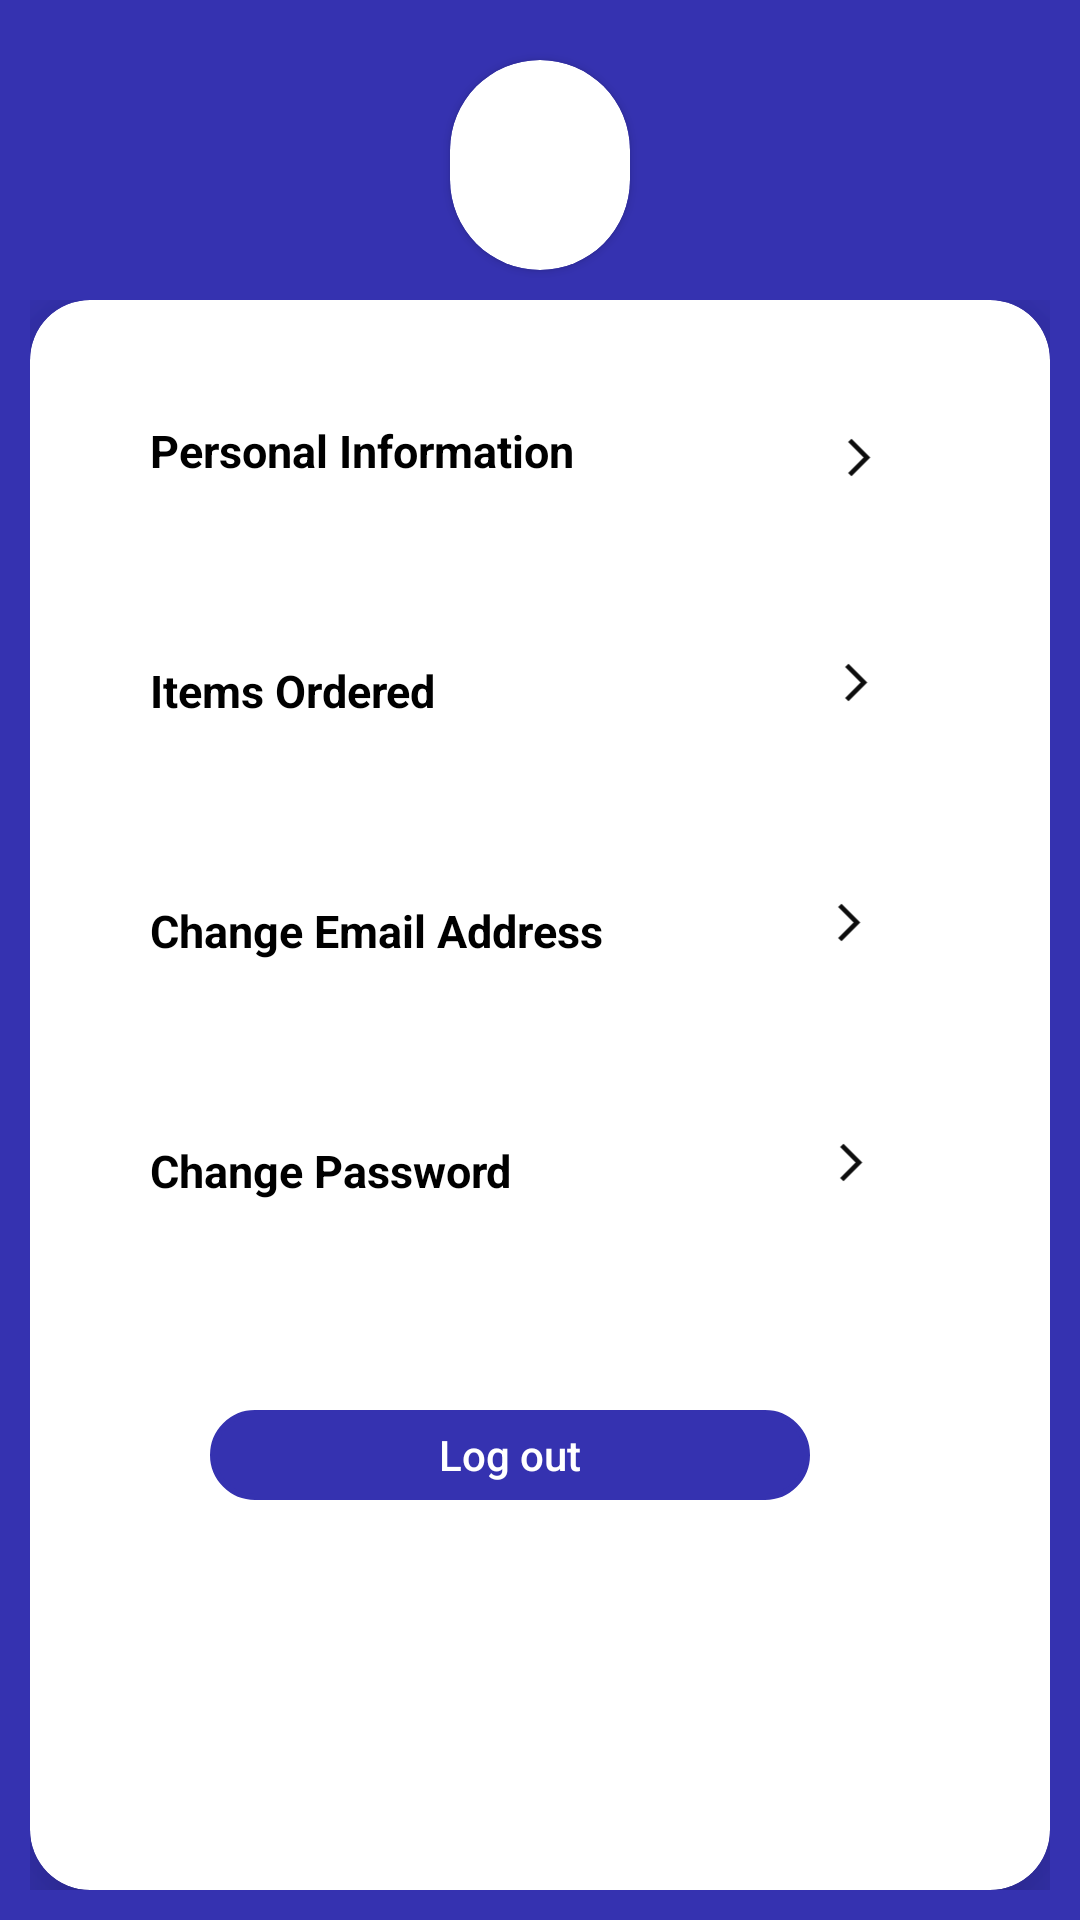

Where icons sit on this 1080 × 1920 app screen, as (x1, y1, x2, y2):
arrow2: (848, 439, 871, 476), (845, 664, 868, 701), (838, 904, 861, 941), (840, 1144, 863, 1181)
